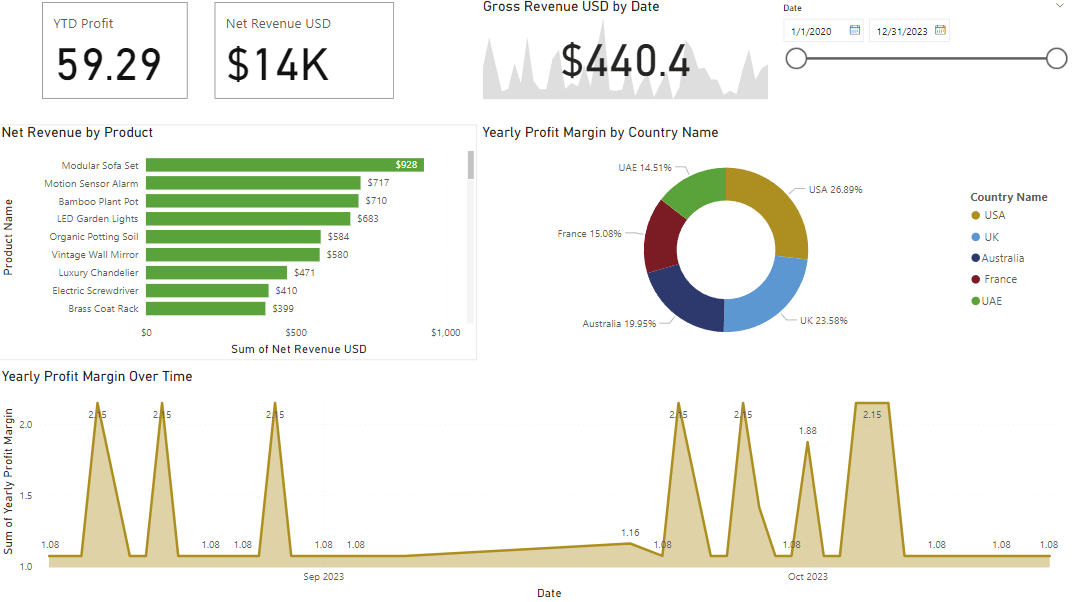

What the dashboard file says about the page in this screenshot:
{"tool":"powerbi","page":{"name":"Profit overview","canvas":[1280,720],"ordinal":1},"visuals":[{"type":"clusteredBarChart","title":"Net Revenue by Product","fields":{"Category":["Sales in USD.Product Name"],"Y":["Sum(Sales in USD.Net Revenue USD)"]},"box":[0,150,571.7,280],"z":0},{"type":"donutChart","title":"Yearly Profit Margin by Country Name","fields":{"Category":["Sales in USD.Country Name"],"Y":["Sum(Sales in USD.Yearly Profit Margin)"]},"box":[571.7,150,698.3,280],"z":1000},{"type":"areaChart","title":"Yearly Profit Margin Over Time","fields":{"Y":["Sum(Sales in USD.Yearly Profit Margin)"],"Category":["Date.Date"]},"box":[0,440,1280,280],"z":2000},{"type":"cardVisual","fields":{"Data":["Sales in USD.YTD Profit"]},"box":[48.9,0,183.3,125.6],"z":3000},{"type":"cardVisual","fields":{"Data":["Sum(Sales in USD.Net Revenue USD)"]},"box":[253.3,0,223.3,125.6],"z":4000},{"type":"kpi","fields":{"Indicator":["Sum(Sales in USD.Gross Revenue USD)"],"TrendLine":["Date.Date"]},"box":[572.2,0,348.9,125.6],"z":5000},{"type":"slicer","fields":{"Values":["Date.Date"]},"box":[921.1,0,358.9,125.6],"z":5001}]}

Visuals, with their boxes in screenshot pixels (x1, y1, x2, y2), scaled from the page's 1280x720 canvas onto the 1073x602 screenshot:
"Net Revenue by Product" clusteredBarChart: box=[0, 125, 479, 360]
"Yearly Profit Margin by Country Name" donutChart: box=[479, 125, 1065, 360]
"Yearly Profit Margin Over Time" areaChart: box=[0, 368, 1072, 601]
cardVisual - Sales in USD.YTD Profit: box=[41, 0, 195, 105]
cardVisual - Sum(Sales in USD.Net Revenue USD): box=[212, 0, 400, 105]
kpi - Sum(Sales in USD.Gross Revenue USD) x Date.Date: box=[480, 0, 772, 105]
slicer - Date.Date: box=[772, 0, 1072, 105]
